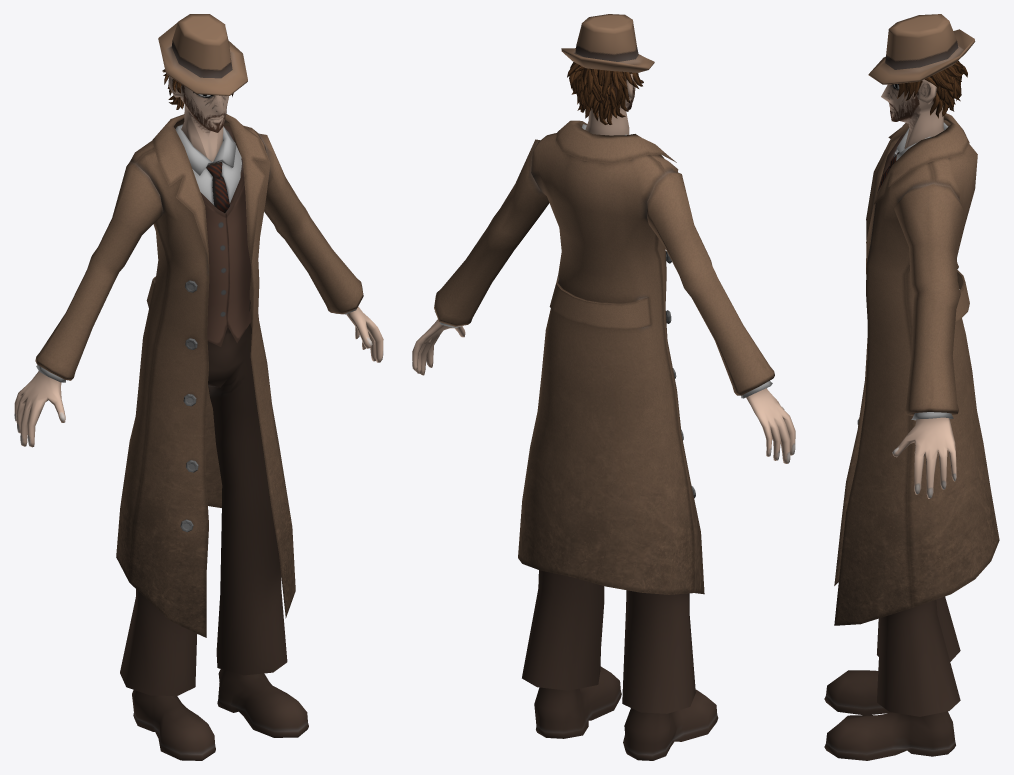
File: detective.fbx
The picture shows the model from 3 angles, left to right: view 1: azimuth 30°, elevation 25°; view 2: azimuth 150°, elevation 25°; view 3: azimuth 270°, elevation 25°; orthographic projection. The views are drawn at different scales.
Visible parts, largest first — view 1: Detective; view 2: Detective; view 3: Detective.
Part boxes in pixels (box(x1,y1,x2,y2)): Detective: box(14, 14, 383, 760); Detective: box(412, 14, 795, 760); Detective: box(824, 14, 999, 760).
Bounding box in the file's own units: 101 × 187 × 42.16.
